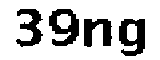3: (11, 6, 45, 49)
9: (48, 5, 80, 51)
g: (116, 19, 149, 60)
n: (82, 16, 113, 52)
